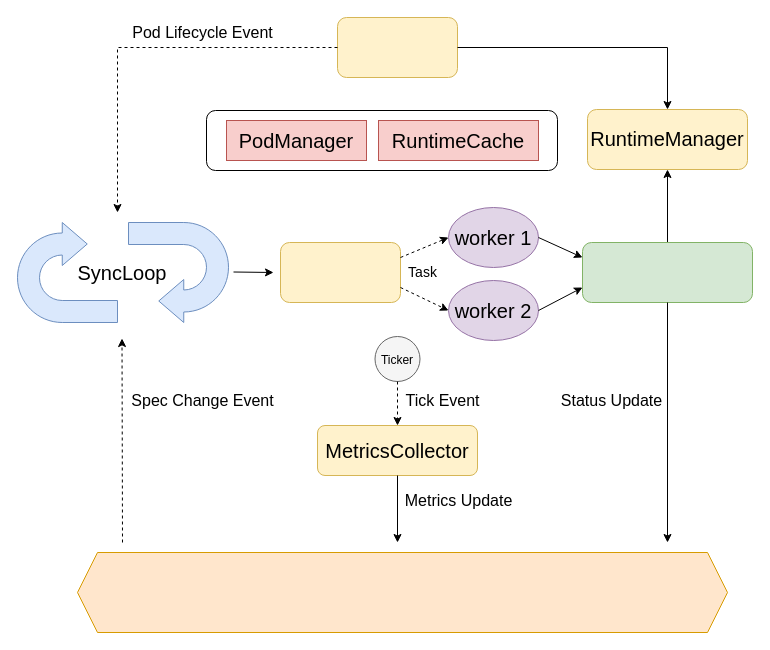
Image size: 770x650. Some labels were removed from this diagram. The box of each missing label's shape, as (x1, y1, x2, y2) in pixels:
Control Plane: (76, 552, 728, 632)
PLEG: (336, 16, 458, 78)
PodWorkers: (280, 242, 400, 302)
SyncPod(): (582, 242, 752, 302)
